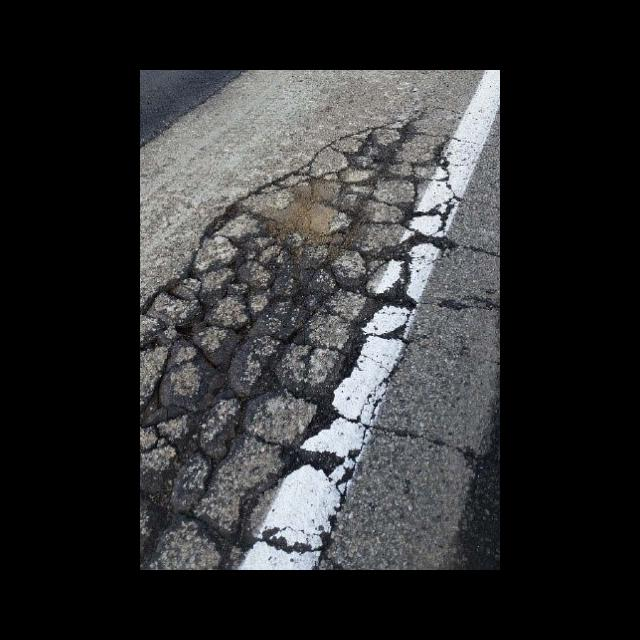retak_kulit_buaya: (211, 106, 463, 334)
